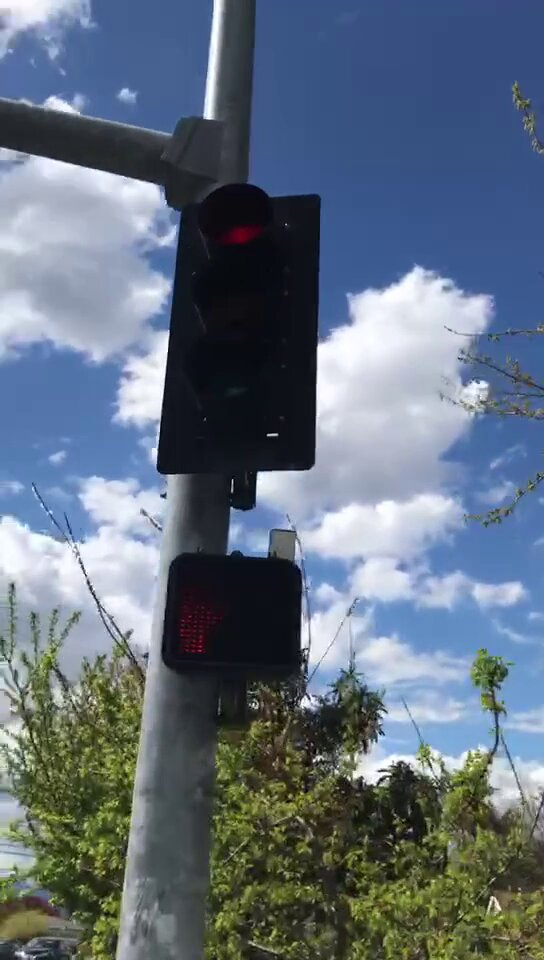red_light: (181, 199, 313, 466)
